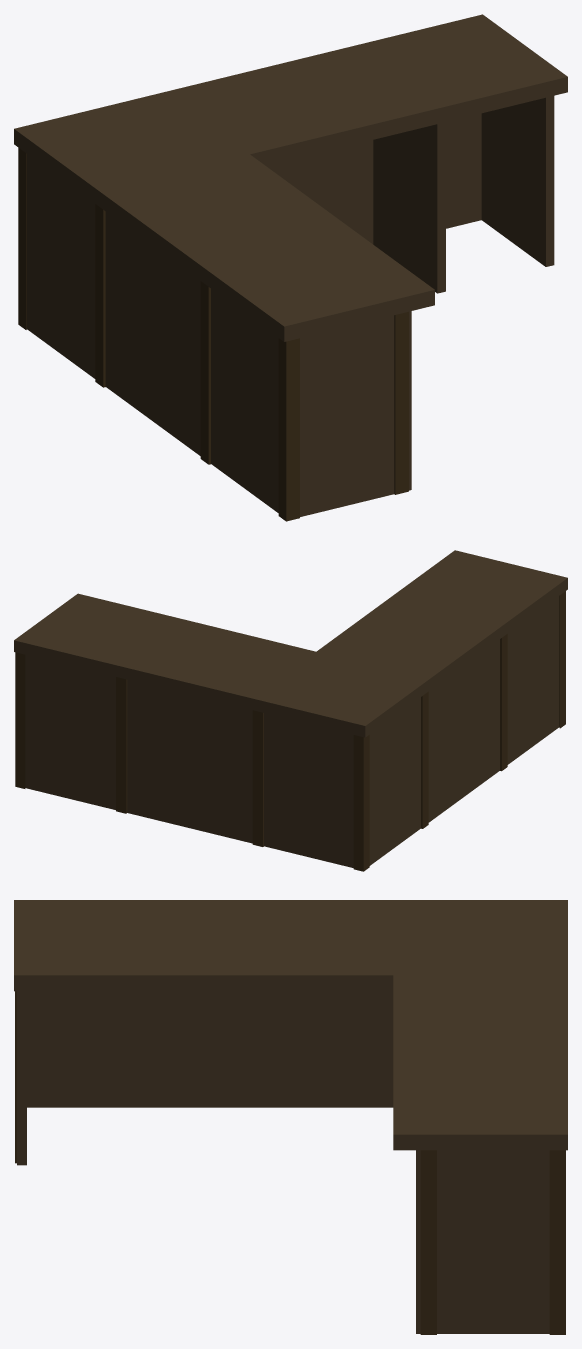
Rendered from Office_Desk_4.fbx.
3 views of the same model, one above another, from view 1: azimuth 30°, elevation 25°; view 2: azimuth 150°, elevation 25°; view 3: azimuth 270°, elevation 25° (orthographic). The views are drawn at different scales.
Parts seen in each view (by area): view 1: Office_Desk_4; view 2: Office_Desk_4; view 3: Office_Desk_4.
Part boxes in pixels (x1,y1,x2,y2): Office_Desk_4: (14, 14, 567, 521); Office_Desk_4: (14, 550, 567, 871); Office_Desk_4: (14, 900, 567, 1334).
Size of the model in its own units: 238 by 95.09 by 238.
